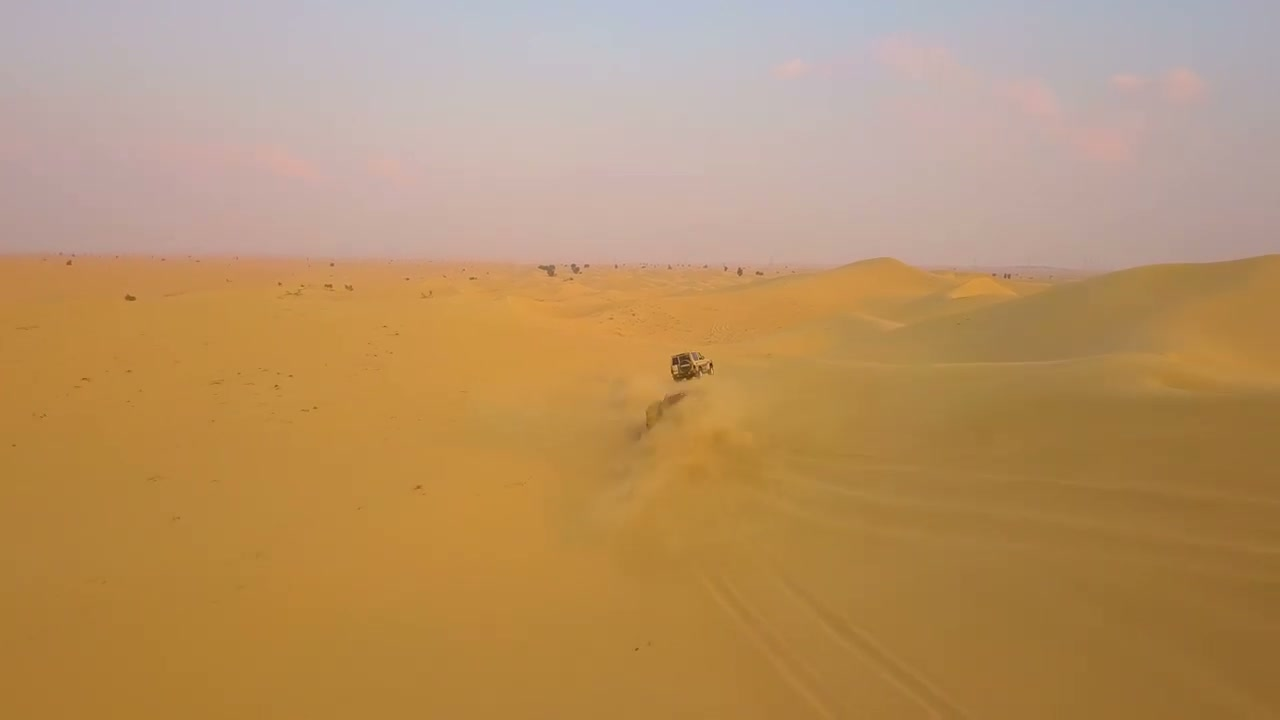vehicle_track: (774, 569, 966, 719), (699, 567, 837, 719)
